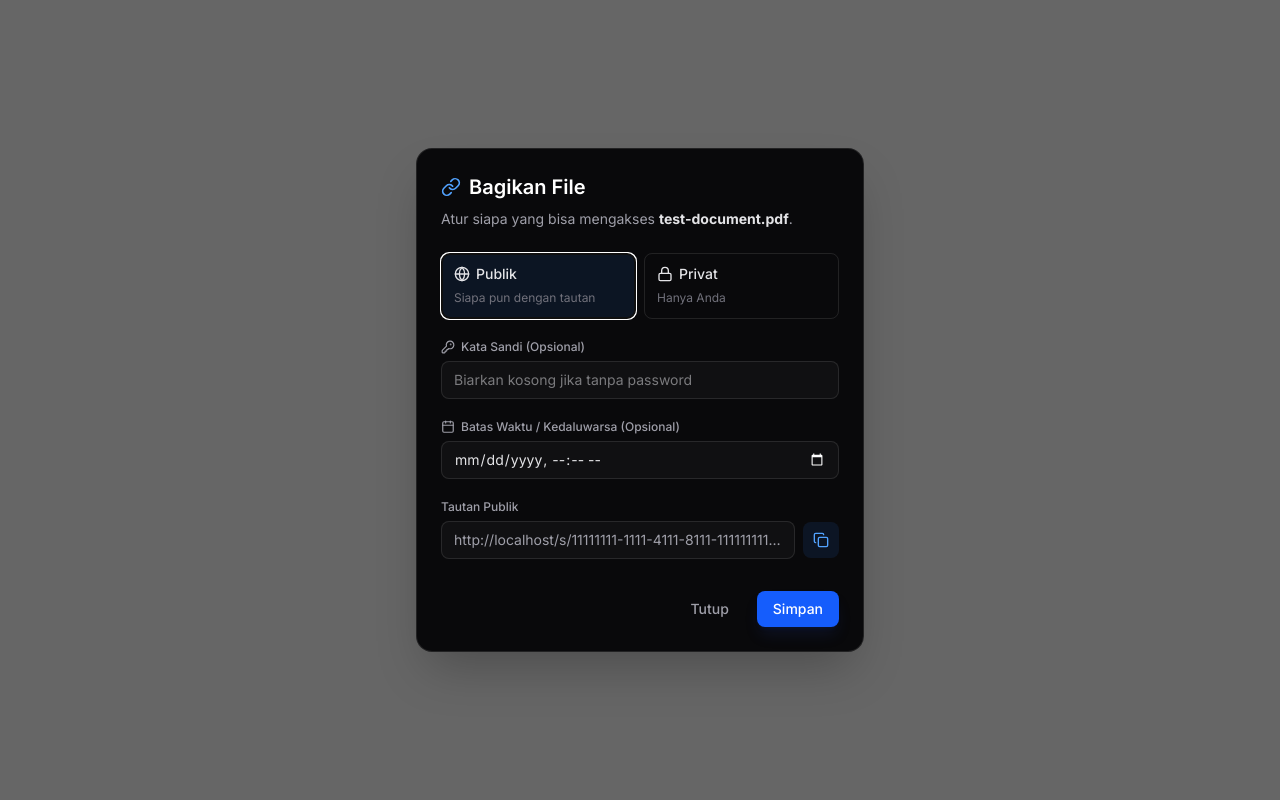
ShareDialog › menolak password terlalu pendek tanpa request
Type "abc" into the password field labelled "Kata Sandi (Opsional)". click: (640, 380)
box: [441,361,839,399]
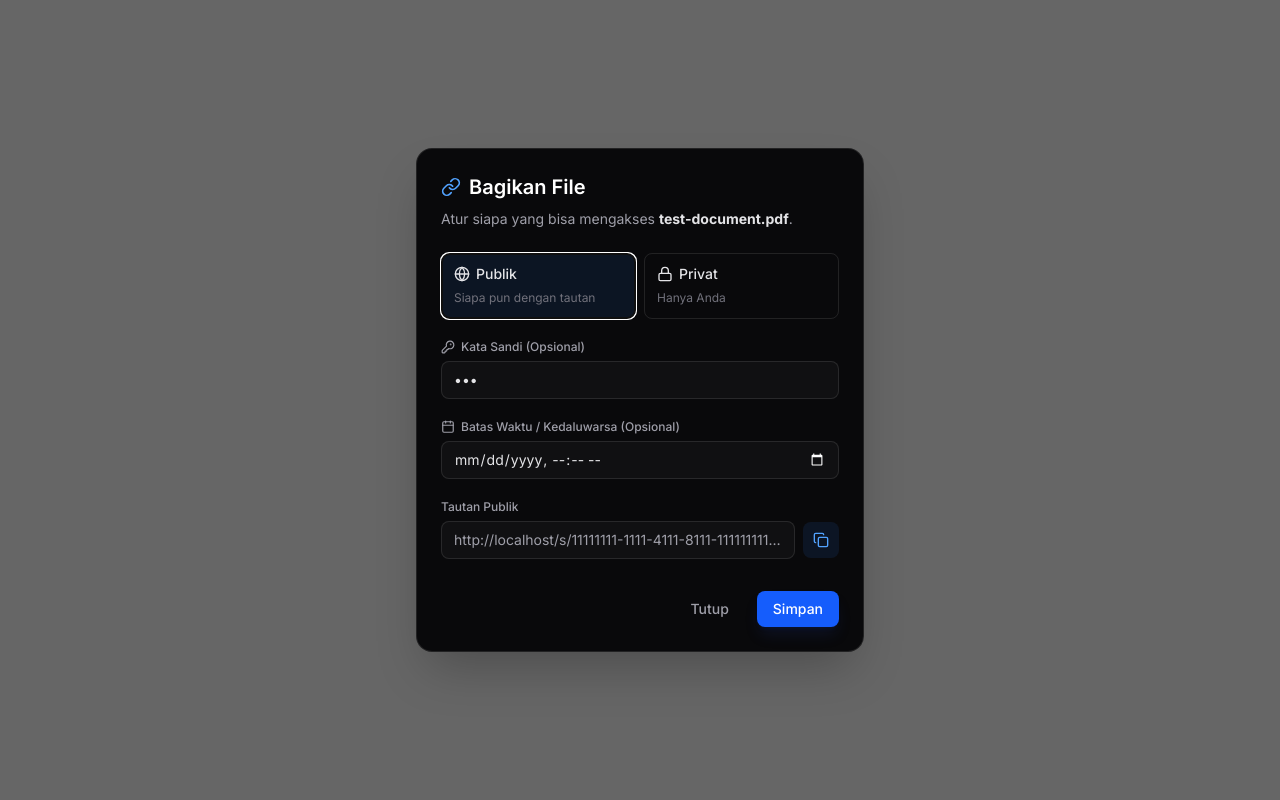
Click the button "Simpan". click: (798, 609)
box: [757,591,839,627]
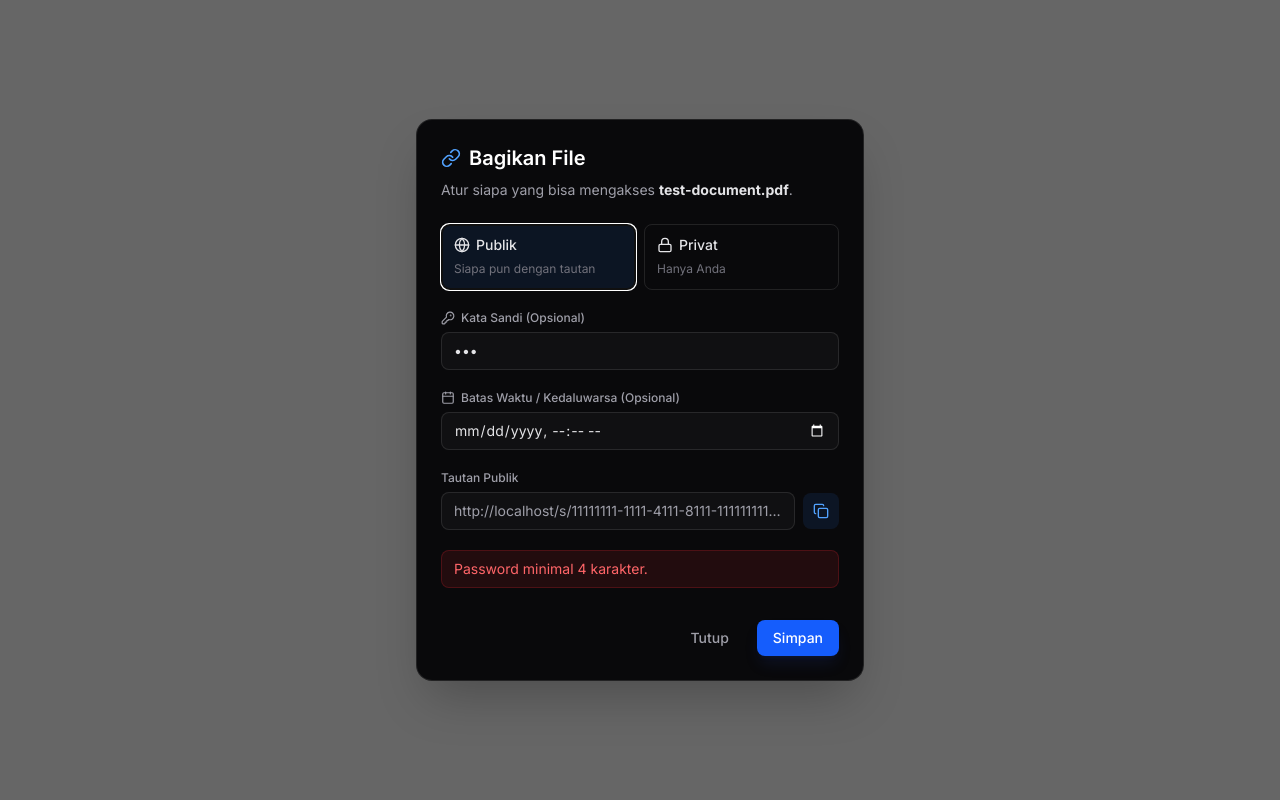
Expected: the message shows "minimal 4", [454,560,648,577]
